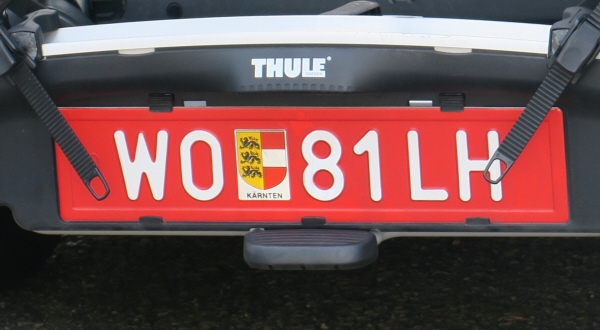license_plate: (51, 104, 570, 226)
